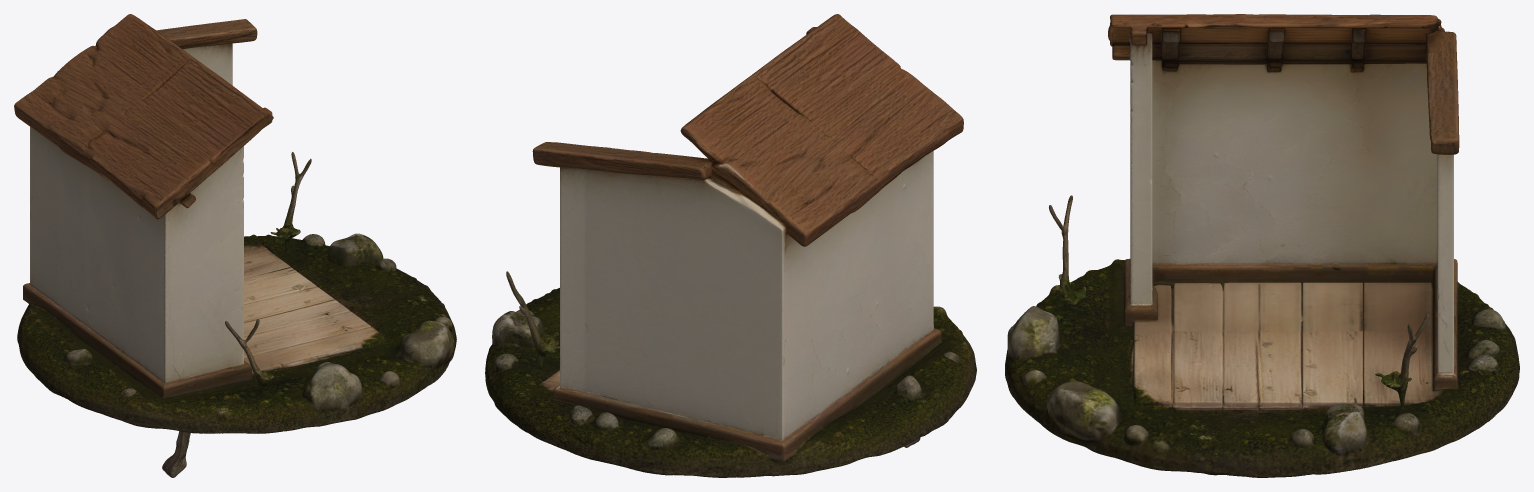
File: C01-木质小型场景3d模型.glb
The picture shows the model from 3 angles, left to right: view 1: azimuth 30°, elevation 25°; view 2: azimuth 150°, elevation 25°; view 3: azimuth 270°, elevation 25°; orthographic projection. The views are drawn at different scales.
Visible parts, largest first — view 1: tripo_node_d9179135-b4b7-40eb-805f-f76d8d00d414; view 2: tripo_node_d9179135-b4b7-40eb-805f-f76d8d00d414; view 3: tripo_node_d9179135-b4b7-40eb-805f-f76d8d00d414.
Part boxes in pixels (x1,y1,x2,y2): tripo_node_d9179135-b4b7-40eb-805f-f76d8d00d414: (14, 14, 456, 477); tripo_node_d9179135-b4b7-40eb-805f-f76d8d00d414: (485, 14, 976, 477); tripo_node_d9179135-b4b7-40eb-805f-f76d8d00d414: (1005, 14, 1519, 477).
Bounding box in the file's own units: 1 × 0.8924 × 0.9959.
Materials: 1 (1 with a texture image).
